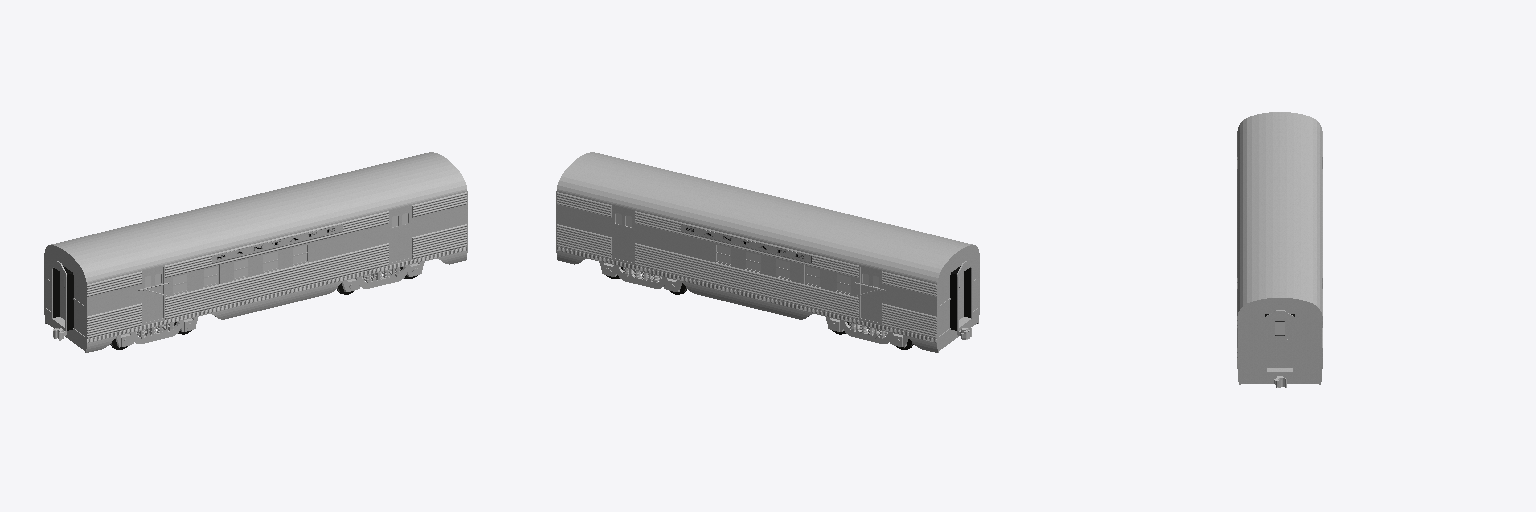
The picture shows the model from 3 angles: view 1: azimuth 30°, elevation 25°; view 2: azimuth 150°, elevation 25°; view 3: azimuth 270°, elevation 25°; orthographic projection.
Parts seen in each view (by area): view 1: FRAME_roof, fluting, FRAME_Mainbody, FRAME, FRAME_frontandback, obj4, obj2, glass, Gangways.001, BOGEY_FRONT, BOGEY_REAR, FRAME_nameplate; view 2: FRAME_roof, fluting, FRAME_Mainbody, FRAME, FRAME_frontandback, obj4, obj2, glass, Gangways.001, BOGEY_FRONT, BOGEY_REAR, FRAME_nameplate; view 3: FRAME_roof, FRAME_frontandback, FRAME, FRAME_gangwaydoors, Gangways.001.
Boxes of the visible parts, x1=… form: FRAME_roof: x1=51, y1=152, x2=466, y2=283; fluting: x1=87, y1=192, x2=466, y2=338; FRAME_Mainbody: x1=87, y1=192, x2=466, y2=338; FRAME: x1=44, y1=247, x2=467, y2=352; FRAME_frontandback: x1=44, y1=152, x2=467, y2=338; obj4: x1=143, y1=207, x2=410, y2=322; obj2: x1=87, y1=247, x2=466, y2=342; glass: x1=64, y1=213, x2=407, y2=293; Gangways.001: x1=51, y1=261, x2=73, y2=331; BOGEY_FRONT: x1=115, y1=317, x2=197, y2=347; BOGEY_REAR: x1=342, y1=262, x2=424, y2=291; FRAME_nameplate: x1=212, y1=224, x2=342, y2=262; FRAME_roof: x1=557, y1=152, x2=972, y2=283; fluting: x1=557, y1=192, x2=936, y2=338; FRAME_Mainbody: x1=557, y1=192, x2=936, y2=338; FRAME: x1=556, y1=247, x2=979, y2=352; FRAME_frontandback: x1=556, y1=152, x2=979, y2=338; obj4: x1=613, y1=207, x2=880, y2=322; obj2: x1=557, y1=247, x2=936, y2=342; glass: x1=616, y1=213, x2=959, y2=293; Gangways.001: x1=950, y1=261, x2=972, y2=331; BOGEY_FRONT: x1=826, y1=317, x2=908, y2=347; BOGEY_REAR: x1=599, y1=262, x2=681, y2=291; FRAME_nameplate: x1=681, y1=224, x2=811, y2=262; FRAME_roof: x1=1238, y1=112, x2=1321, y2=311; FRAME_frontandback: x1=1238, y1=112, x2=1321, y2=370; FRAME: x1=1238, y1=371, x2=1321, y2=384; FRAME_gangwaydoors: x1=1271, y1=319, x2=1288, y2=367; Gangways.001: x1=1265, y1=310, x2=1294, y2=373.
Size of the model in its own units: 17.3 by 4.2 by 3.22.
Materials: 3 (1 with a texture image).